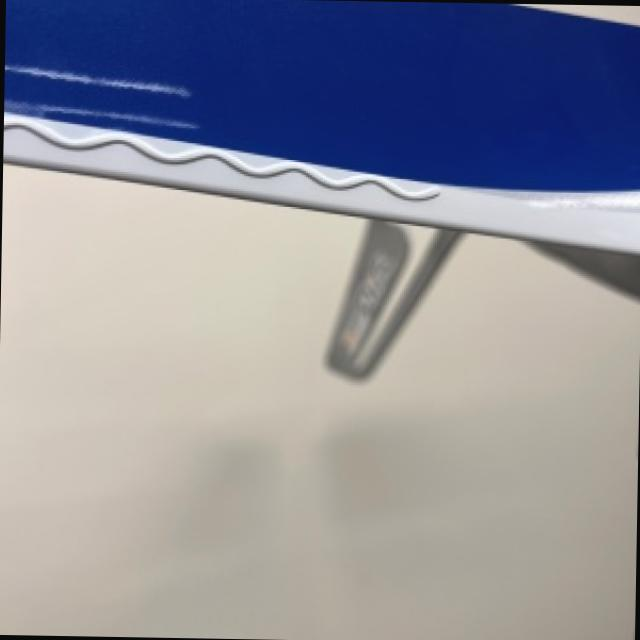healthy: (0, 0, 640, 640), (5, 0, 640, 376)
